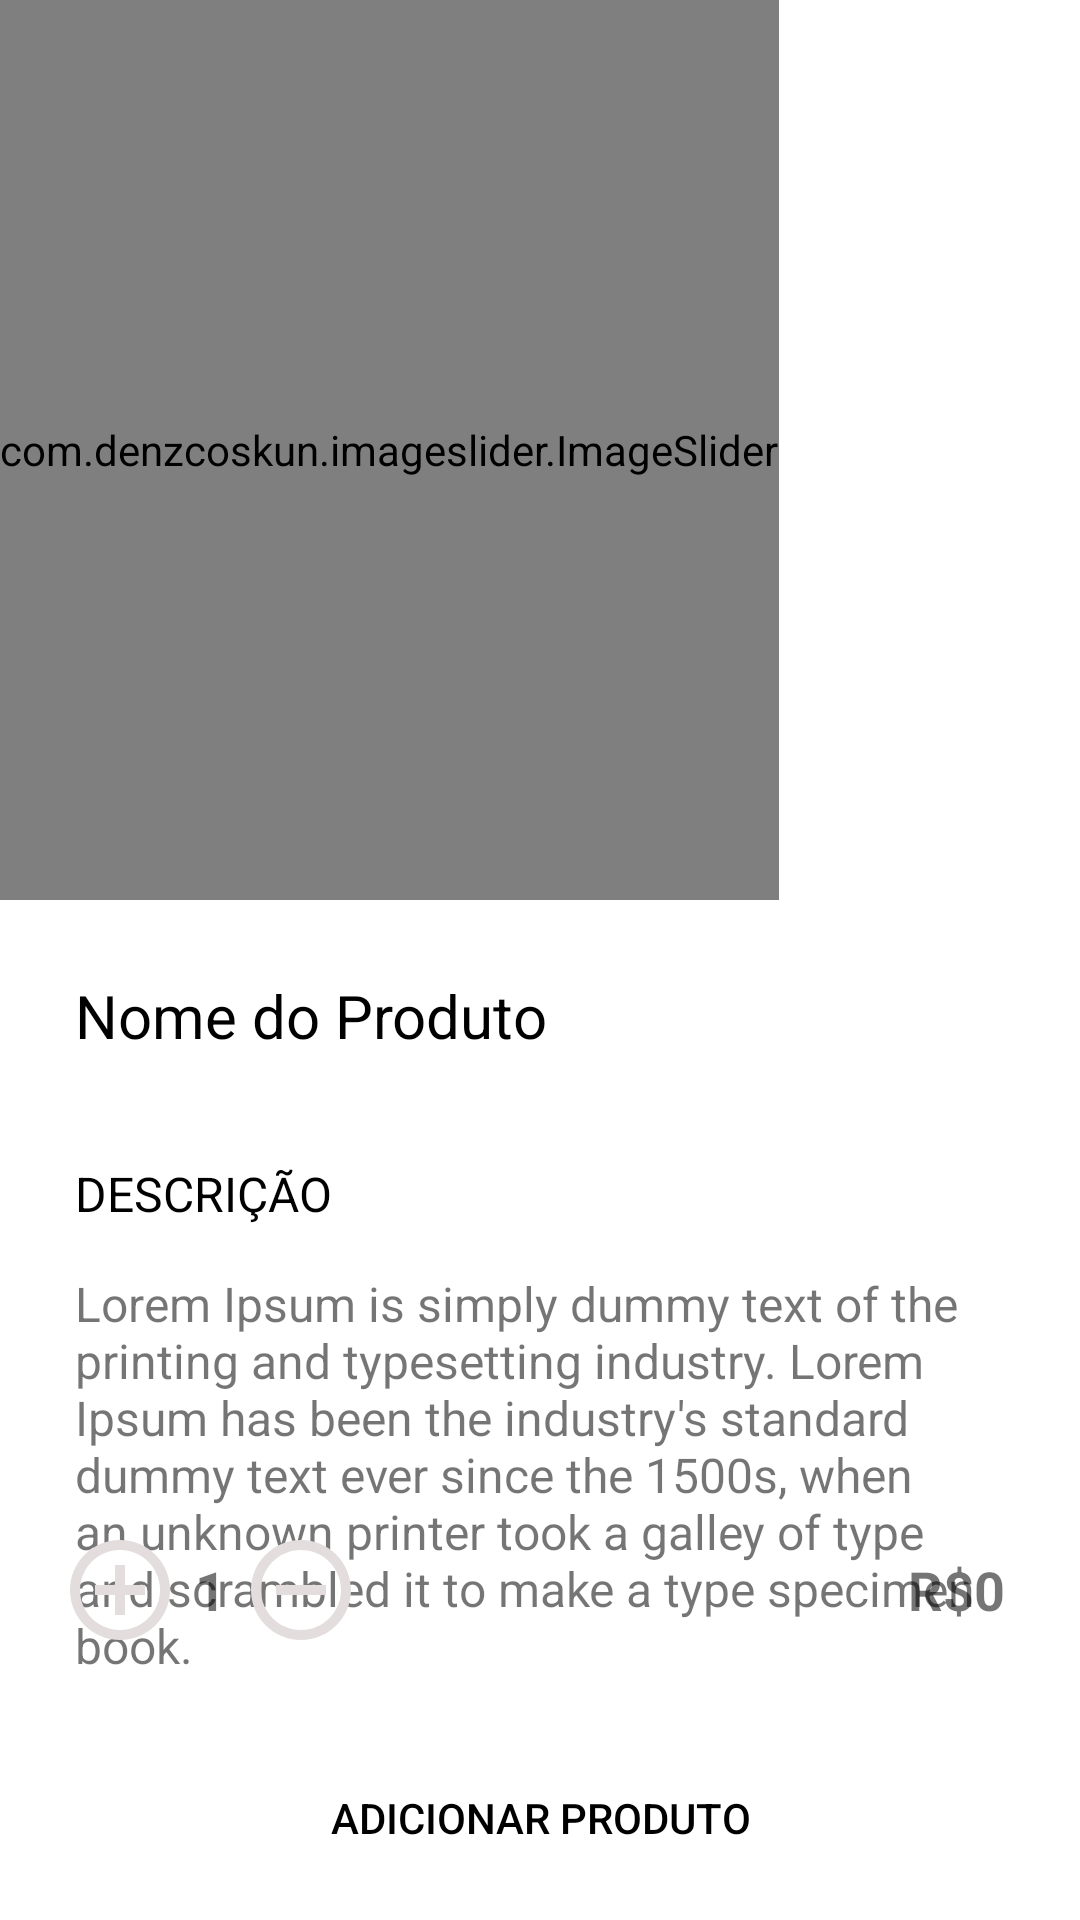

Where to tap for icons on this 1080*1920 app screen, as [x,y]:
add: [125,1590]
remove: [301,1585]
